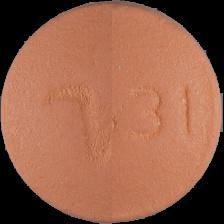68788-6375: (0, 0, 224, 224)
